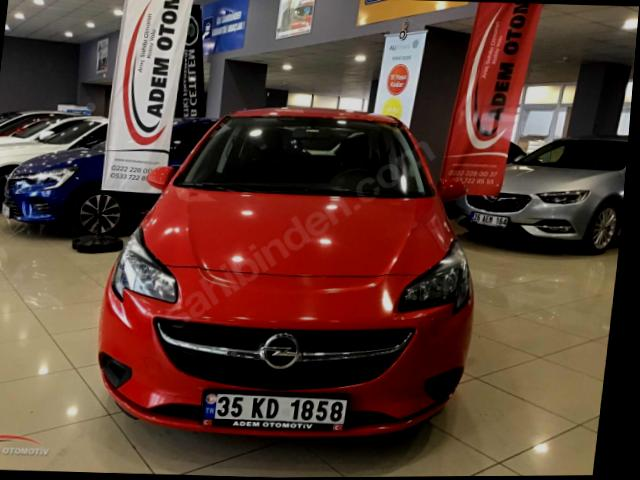plaka: (200, 391, 348, 429), (471, 212, 507, 227)
